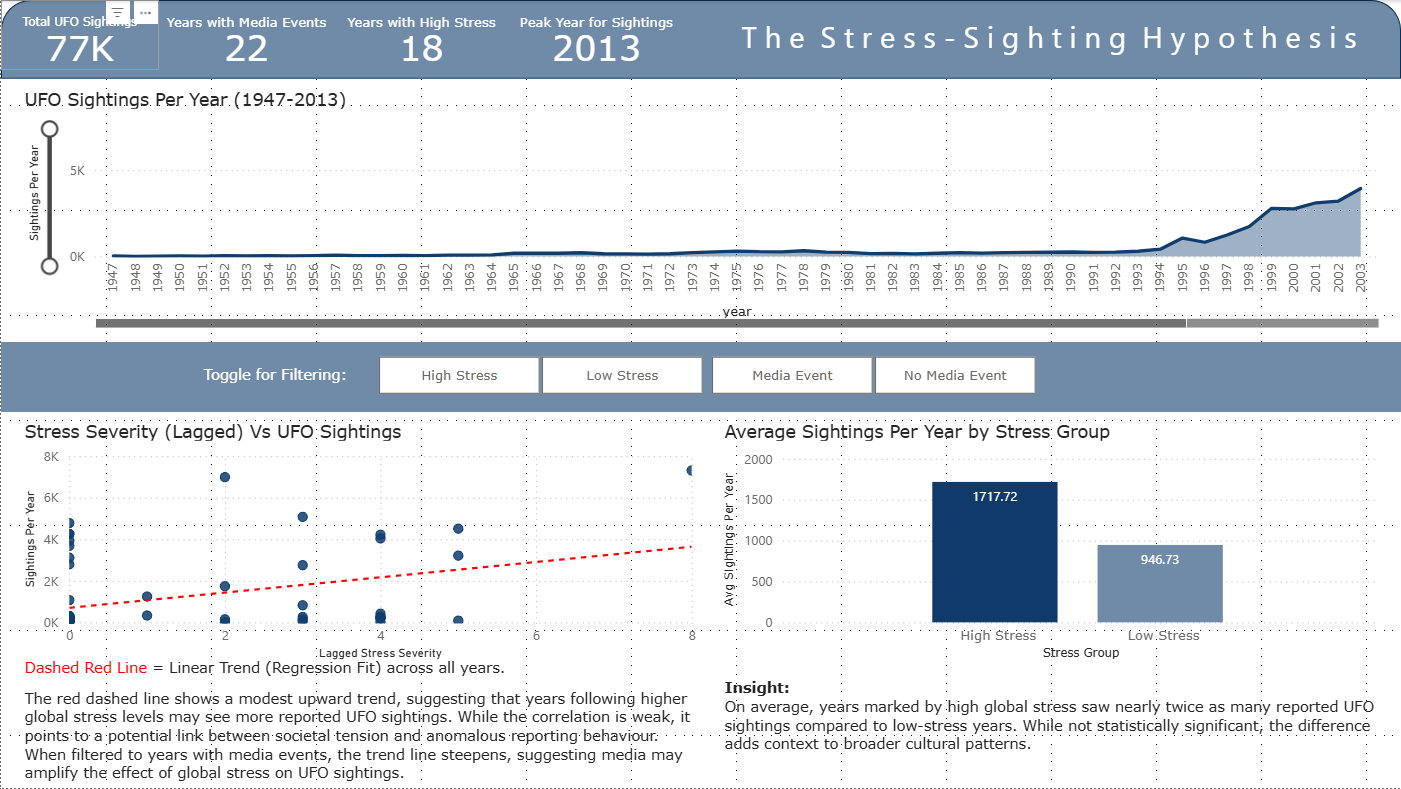

The page's visual inventory and layout, read from the dashboard file:
{"tool":"powerbi","page":{"name":"Page 1","canvas":[1280,720],"ordinal":0},"visuals":[{"type":"shape","box":[0,0,1280,72],"z":0},{"type":"slicer","fields":{"Values":["final_merged_dataset.stress_group"]},"box":[324.3,319,336,48],"z":0,"group":"g1"},{"type":"shape","box":[0,312.4,1280,64],"z":1000},{"type":"slicer","fields":{"Values":["final_merged_dataset.media_event_label"]},"box":[628.3,319,336,48],"z":1000,"group":"g1"},{"type":"textbox","box":[672,0,592,64],"z":2000},{"type":"areaChart","title":"UFO Sightings Per Year (1947-2013)","fields":{"Category":["final_merged_dataset.year"],"Y":["Sum(final_merged_dataset.sightings_per_year)"]},"box":[16,80,1248,224],"z":3000},{"type":"group","id":"g1","title":"Group 1","box":[324.3,319,640,48],"z":4000},{"type":"scatterChart","title":"Stress Severity (Lagged) Vs UFO Sightings","fields":{"X":["Sum(final_merged_dataset.severity_sum_lag1)"],"Y":["Sum(final_merged_dataset.sightings_per_year)"],"Category":["final_merged_dataset.year"]},"box":[16,384,624,224],"z":5000},{"type":"textbox","box":[16,592,624,32],"z":6000},{"type":"textbox","box":[16,624,624,96],"z":7000},{"type":"clusteredColumnChart","title":"Average Sightings Per Year by Stress Group","fields":{"Category":["final_merged_dataset.stress_group"],"Y":["Avg(final_merged_dataset.sightings_per_year)"]},"box":[656,384,608,224],"z":8000},{"type":"textbox","box":[656,608,624,96],"z":9000},{"type":"card","title":"Total UFO Sightings","fields":{"Values":["Sum(final_merged_dataset.sightings_per_year)"]},"box":[0,0,144,64],"z":10000},{"type":"card","title":"Years with Media Events","fields":{"Values":["Sum(final_merged_dataset.media_event)"]},"box":[144,0,160,64],"z":11000},{"type":"card","title":"Years with High Stress","fields":{"Values":["CountNonNull(final_merged_dataset.year)"]},"box":[304,0,160,64],"z":12000},{"type":"textbox","box":[180.3,327,160,32],"z":13000},{"type":"card","title":"Peak Year for Sightings","fields":{"Values":["final_merged_dataset.Peak_Year_Sightings"]},"box":[464,0,160,64],"z":14000}]}

Visuals, with their boxes in screenshot pixels (x1, y1, x2, y2), scaled from the page's 1280x720 canvas onto the 1401x789 screenshot:
shape: rect(0, 0, 1400, 79)
slicer - final_merged_dataset.stress_group: rect(355, 350, 723, 402)
shape: rect(0, 342, 1400, 412)
slicer - final_merged_dataset.media_event_label: rect(688, 350, 1055, 402)
textbox: rect(736, 0, 1383, 70)
"UFO Sightings Per Year (1947-2013)" areaChart: rect(18, 88, 1383, 333)
"Group 1" group: rect(355, 350, 1055, 402)
"Stress Severity (Lagged) Vs UFO Sightings" scatterChart: rect(18, 421, 700, 666)
textbox: rect(18, 649, 700, 684)
textbox: rect(18, 684, 700, 788)
"Average Sightings Per Year by Stress Group" clusteredColumnChart: rect(718, 421, 1383, 666)
textbox: rect(718, 666, 1400, 771)
"Total UFO Sightings" card: rect(0, 0, 158, 70)
"Years with Media Events" card: rect(158, 0, 333, 70)
"Years with High Stress" card: rect(333, 0, 508, 70)
textbox: rect(197, 358, 372, 393)
"Peak Year for Sightings" card: rect(508, 0, 683, 70)
